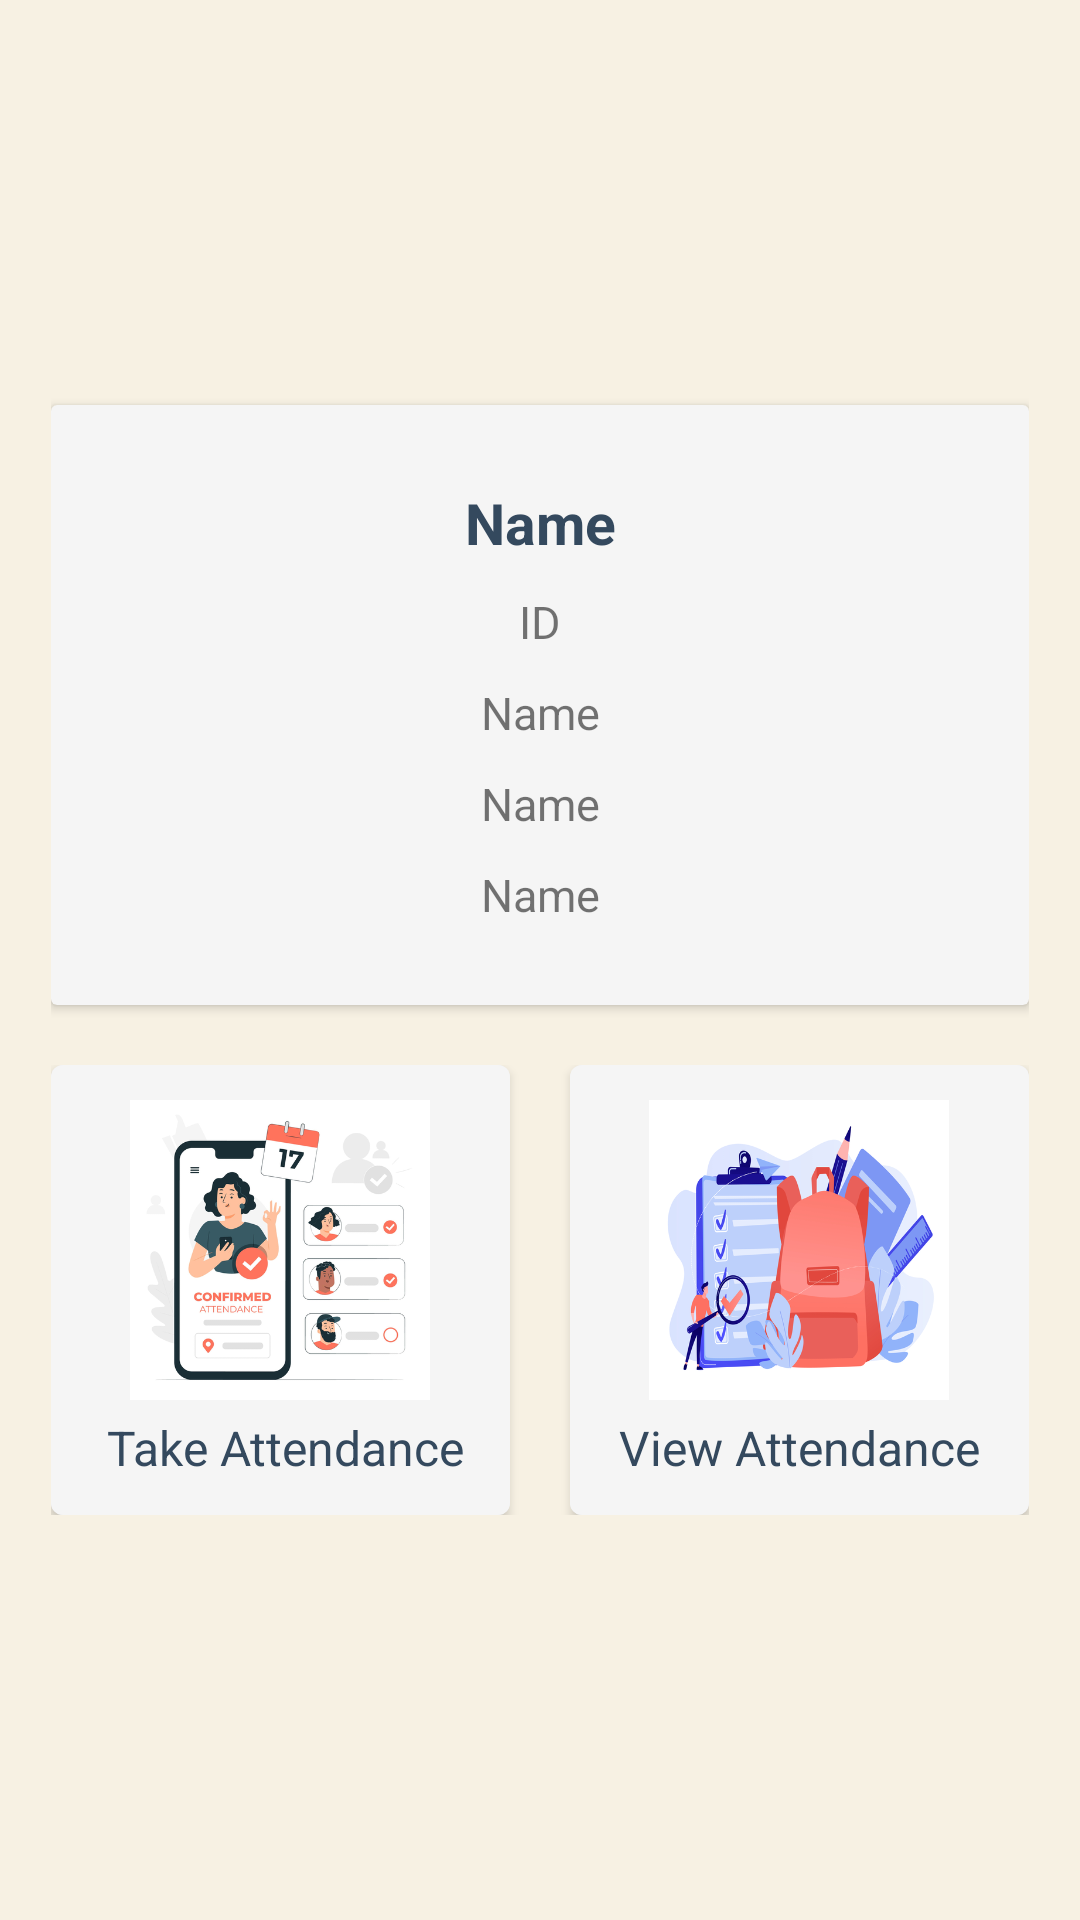

Where icons sit on this 1080×1920 app screen, as (x1, y1, x2, y2):
stdlist: (668, 1126, 933, 1370)
